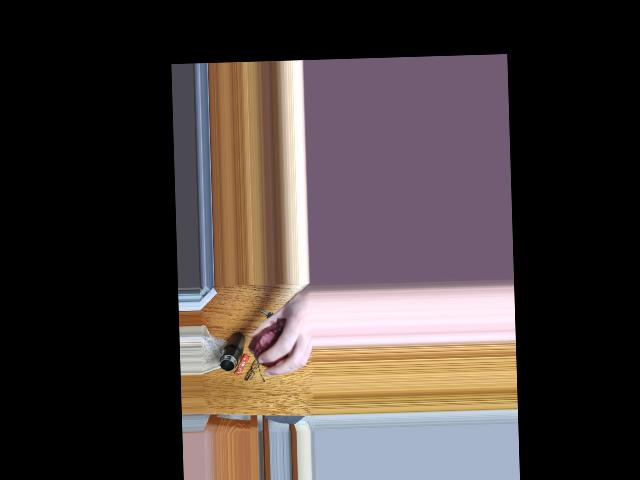onion: (252, 322, 287, 366)
